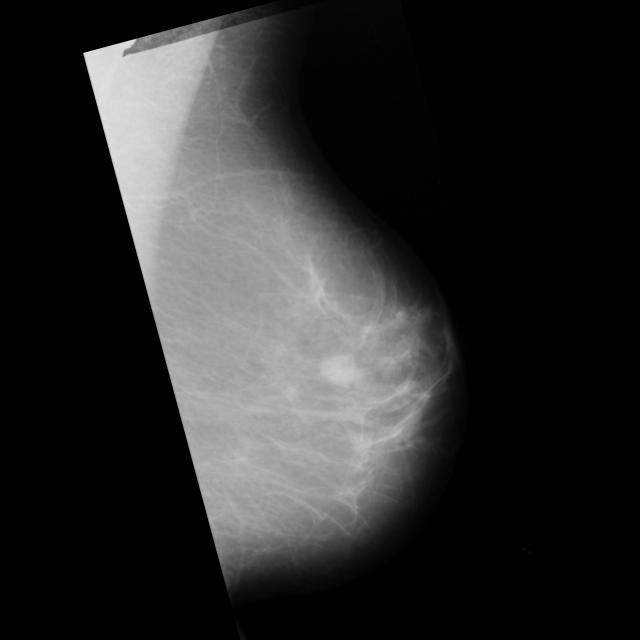CIRC: (0, 14, 327, 465)
